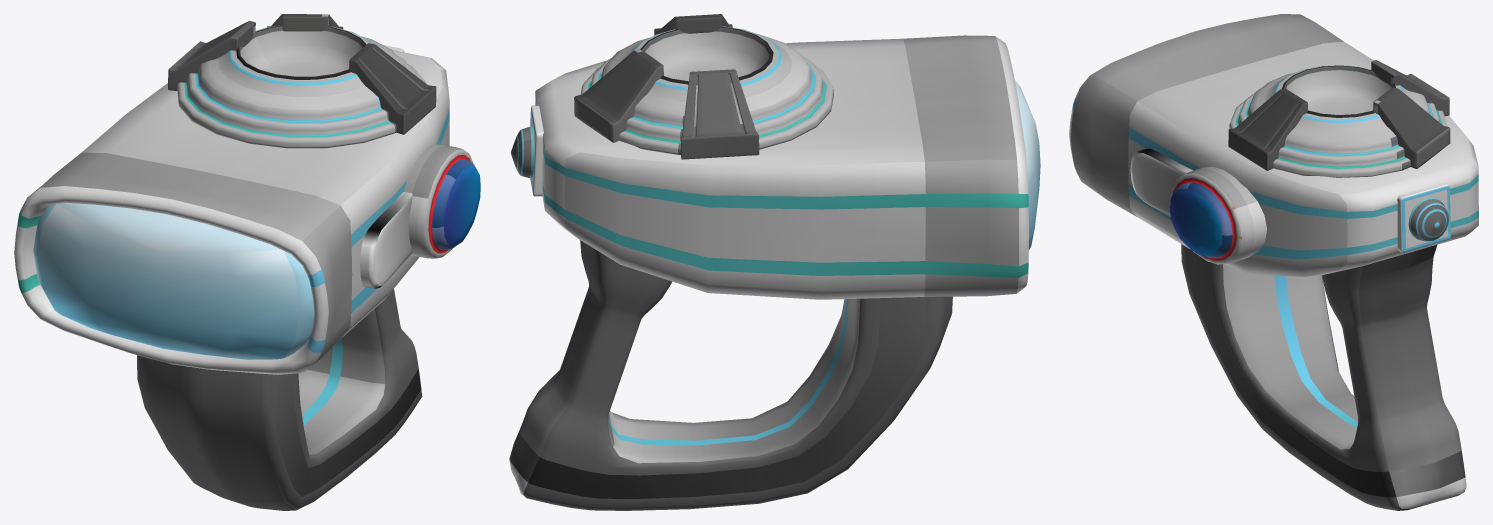
3 renders of one model, left to right at view 1: azimuth 30°, elevation 25°; view 2: azimuth 150°, elevation 25°; view 3: azimuth 270°, elevation 25°, orthographic. The views are drawn at different scales.
Visible parts, largest first — view 1: Circle.002; view 2: Circle.002; view 3: Circle.002.
Boxes of the visible parts, box(x1,y1,x2,y2) form: Circle.002: box(14, 14, 480, 510); Circle.002: box(509, 14, 1040, 510); Circle.002: box(1069, 14, 1478, 510).
Size of the model in its own units: 2.2 by 2.03 by 1.97.
1 material, 1 textured.
